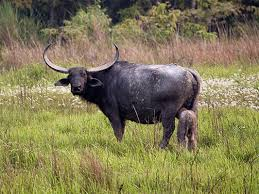buffalo: (40, 38, 206, 152), (178, 98, 197, 152)
